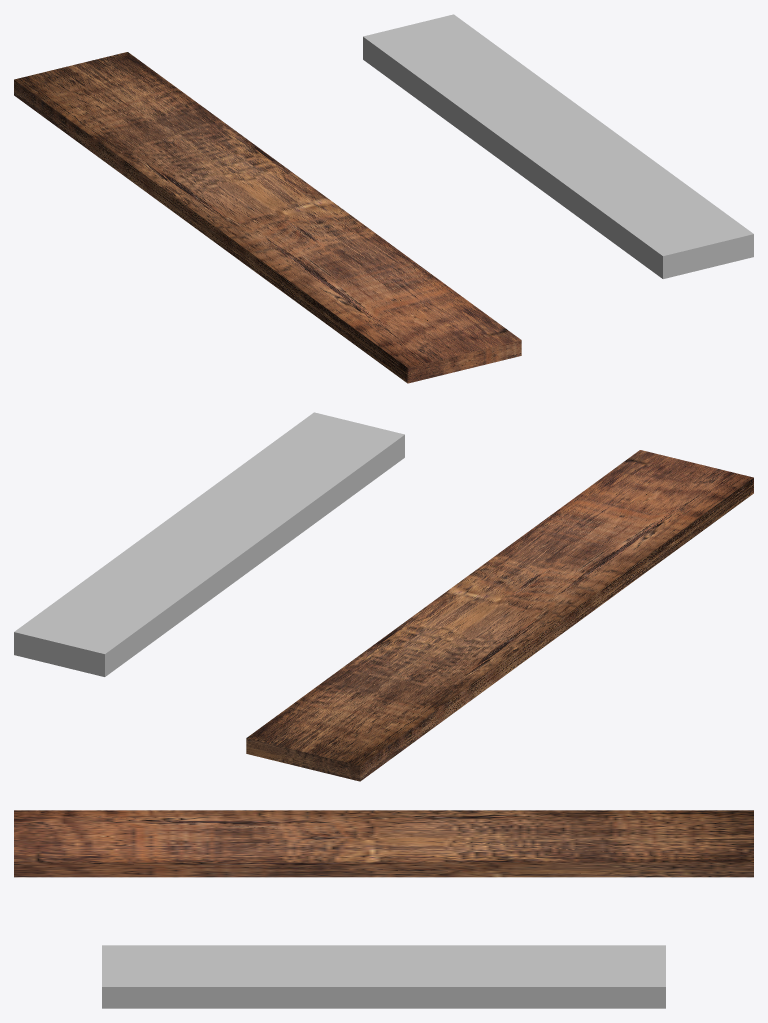
Rendered from wood.fbx.
3 renders of one model, top to bottom at view 1: azimuth 30°, elevation 25°; view 2: azimuth 150°, elevation 25°; view 3: azimuth 270°, elevation 25°, orthographic. The views are drawn at different scales.
Visible parts, largest first — view 1: wood, rust; view 2: wood, rust; view 3: wood, rust.
Part boxes in pixels (x1=…): wood: x1=14, y1=52, x2=521, y2=383; rust: x1=363, y1=14, x2=753, y2=278; wood: x1=246, y1=450, x2=753, y2=781; rust: x1=14, y1=412, x2=404, y2=676; wood: x1=14, y1=810, x2=753, y2=877; rust: x1=102, y1=945, x2=665, y2=1008.
Bounding box in the file's own units: 408 × 22.85 × 709.
